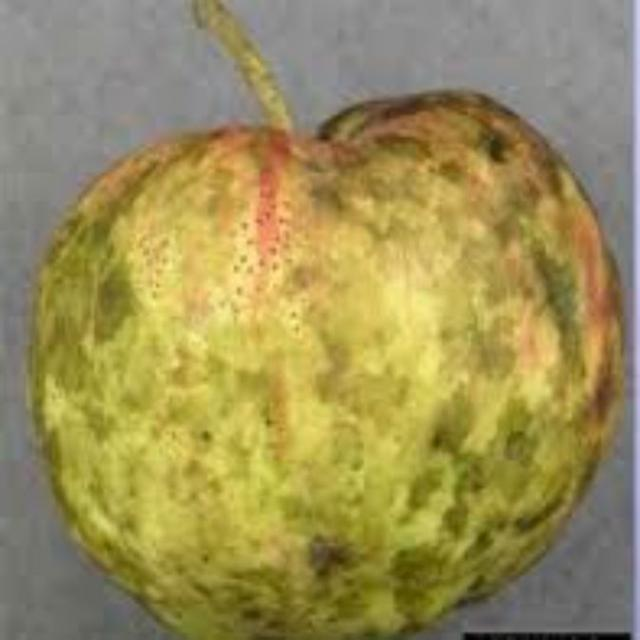Rotten Apple: (10, 86, 628, 640)
